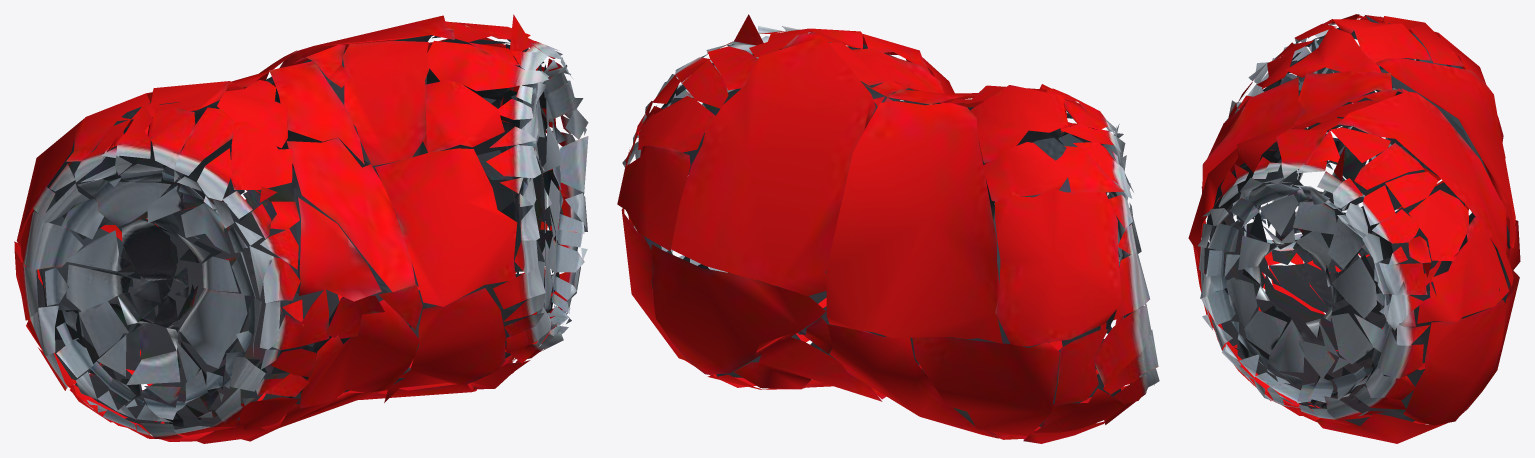
The model's file is waste-can.glb.
3 renders of one model, left to right at view 1: azimuth 30°, elevation 25°; view 2: azimuth 150°, elevation 25°; view 3: azimuth 270°, elevation 25°, orthographic. The views are drawn at different scales.
Visible parts, largest first — view 1: Mesh_0; view 2: Mesh_0; view 3: Mesh_0.
Boxes of the visible parts, x1=… form: Mesh_0: x1=14, y1=14, x2=588, y2=443; Mesh_0: x1=617, y1=14, x2=1159, y2=443; Mesh_0: x1=1188, y1=14, x2=1520, y2=443.
Bounding box in the file's own units: 1.88 × 1.16 × 1.14.
Materials: 1 (1 with a texture image).
